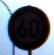Speed Limit -60-: (7, 4, 49, 50)
